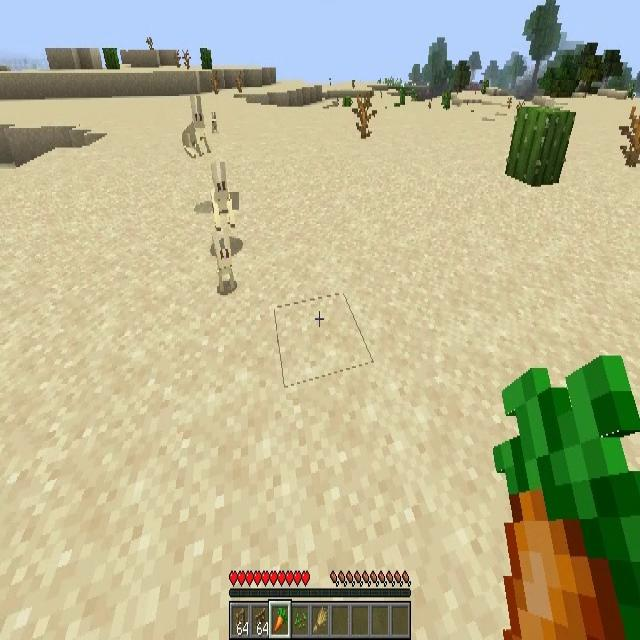rabbit: (211, 160, 240, 232), (182, 99, 213, 158), (214, 227, 238, 290), (211, 112, 217, 134)
